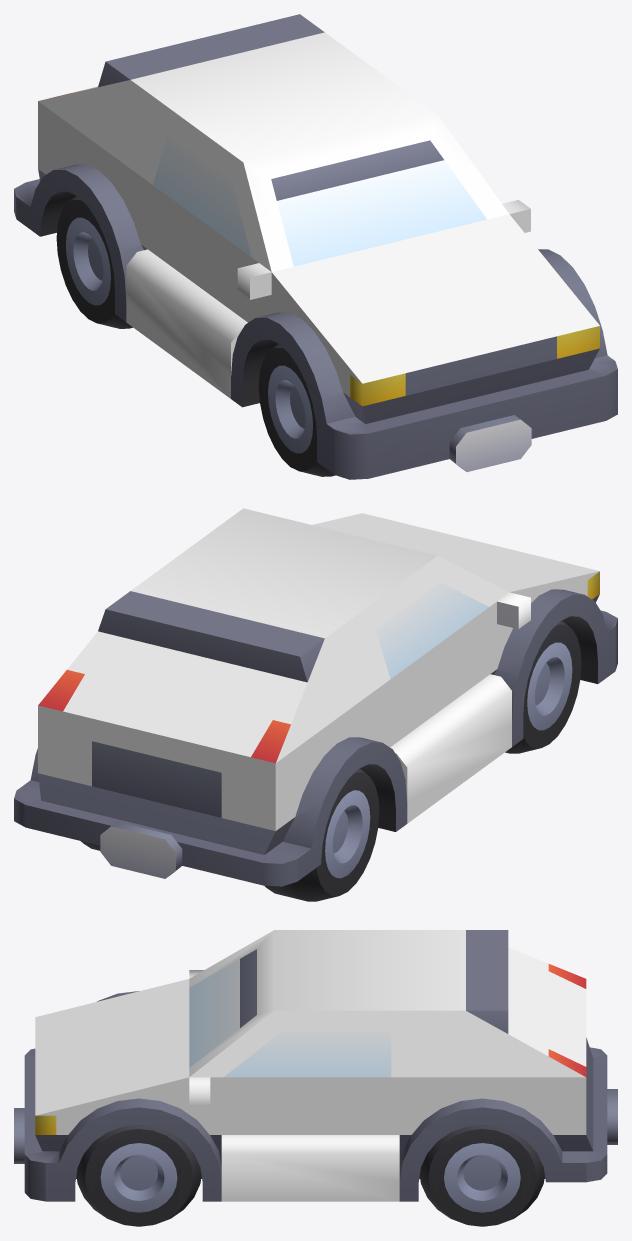
File: hatchback-sports.glb
3 renders of one model, top to bottom at view 1: azimuth 30°, elevation 25°; view 2: azimuth 150°, elevation 25°; view 3: azimuth 270°, elevation 25°, orthographic. The views are drawn at different scales.
Parts seen in each view (by area): view 1: body, wheel-back-right, wheel-front-right; view 2: body, wheel-back-right, wheel-front-right; view 3: body, wheel-front-left, wheel-back-left.
Part boxes in pixels (bbox=[...]): body: bbox=[14, 14, 617, 479]; wheel-back-right: bbox=[56, 196, 132, 328]; wheel-front-right: bbox=[258, 343, 335, 476]; body: bbox=[14, 508, 617, 886]; wheel-back-right: bbox=[264, 768, 379, 901]; wheel-front-right: bbox=[505, 620, 581, 753]; body: bbox=[14, 930, 617, 1201]; wheel-front-left: bbox=[76, 1124, 201, 1226]; wheel-back-left: bbox=[419, 1124, 544, 1226].
Size of the model in its own units: 1.3 by 1.1 by 2.85.
2 materials, 1 textured.
